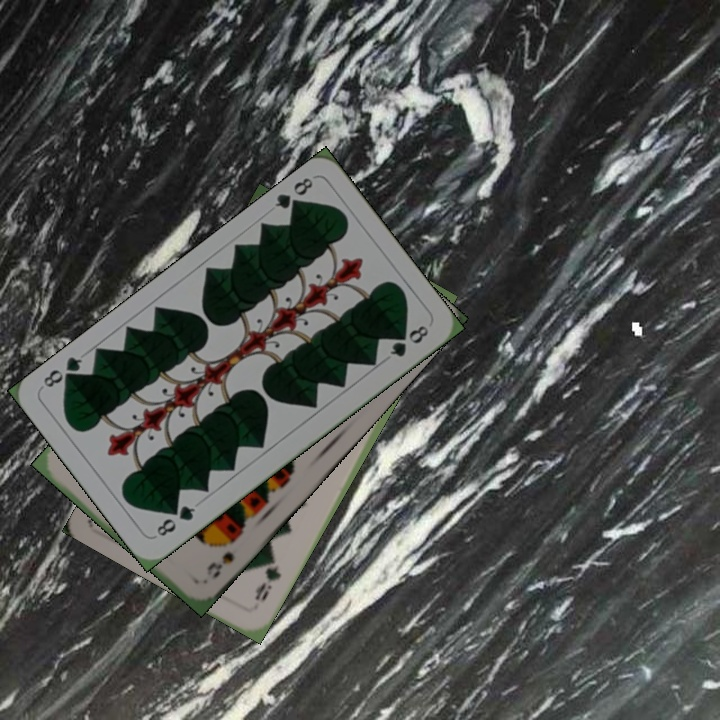G8: (270, 173, 316, 216), (152, 501, 198, 539)
G9: (250, 554, 284, 604)
S9: (202, 534, 240, 581)
